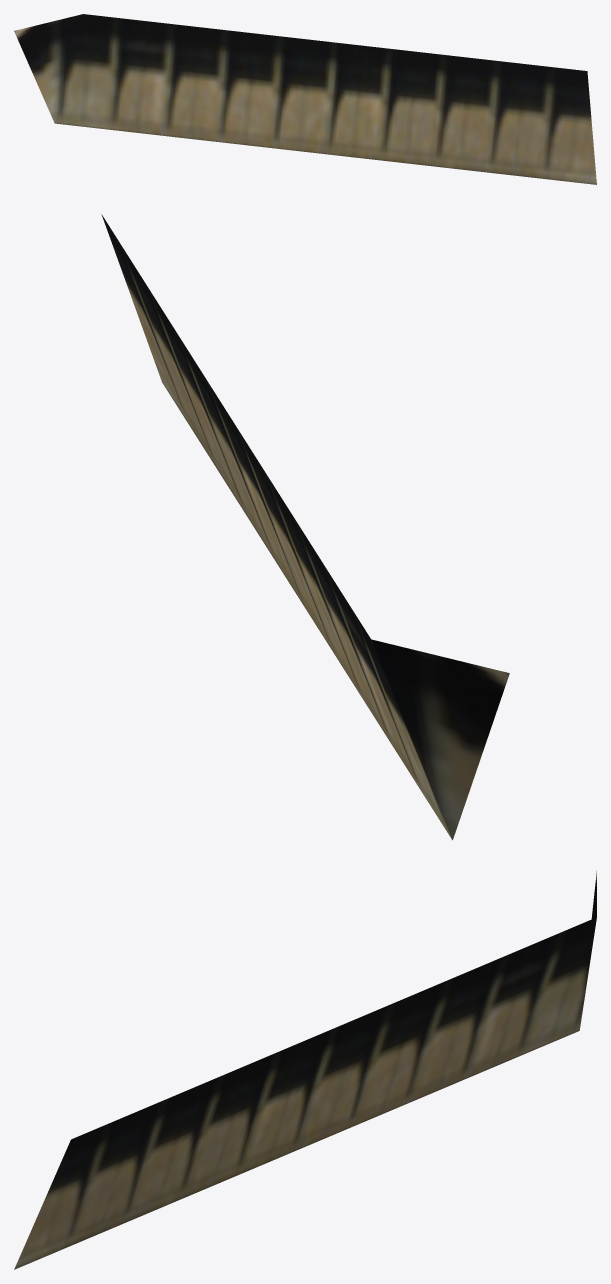
File: 埃菲尔铁塔29.dae
3 renders of one model, top to bottom at view 1: azimuth 30°, elevation 25°; view 2: azimuth 150°, elevation 25°; view 3: azimuth 270°, elevation 25°, orthographic. The views are drawn at different scales.
Visible parts, largest first — view 1: SketchUp; view 2: SketchUp; view 3: SketchUp.
Boxes of the visible parts, left/top/right/bottom form: SketchUp: left=14, top=14, right=596, bottom=184; SketchUp: left=101, top=214, right=509, bottom=840; SketchUp: left=14, top=871, right=596, bottom=1269.
Bounding box in the file's own units: 1134 × 1033 × 269.
1 material, 1 textured.
